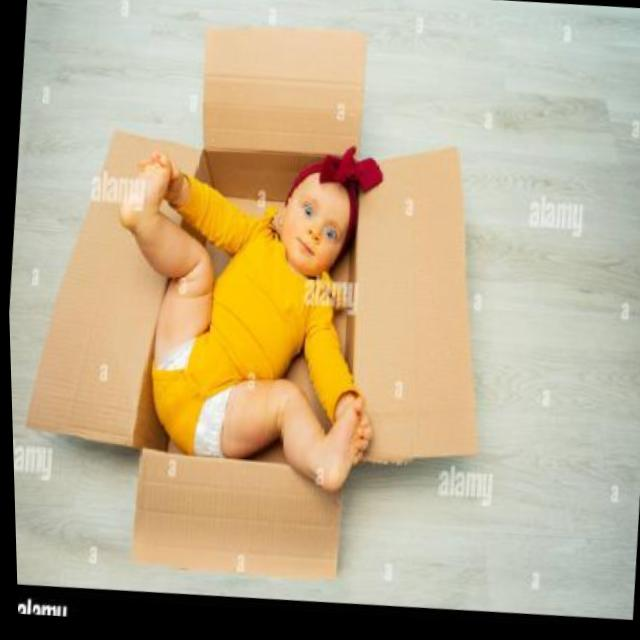box: (0, 2, 515, 611)
